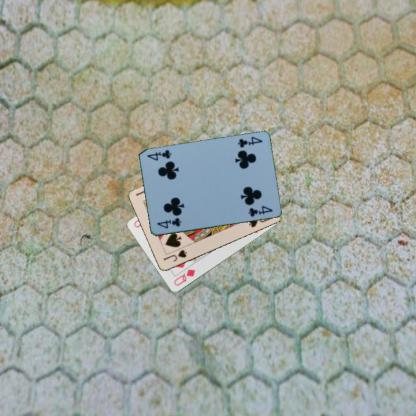4c: (154, 215, 183, 230), (235, 134, 264, 149)
Js: (160, 247, 188, 263)
Qd: (171, 267, 196, 287)
